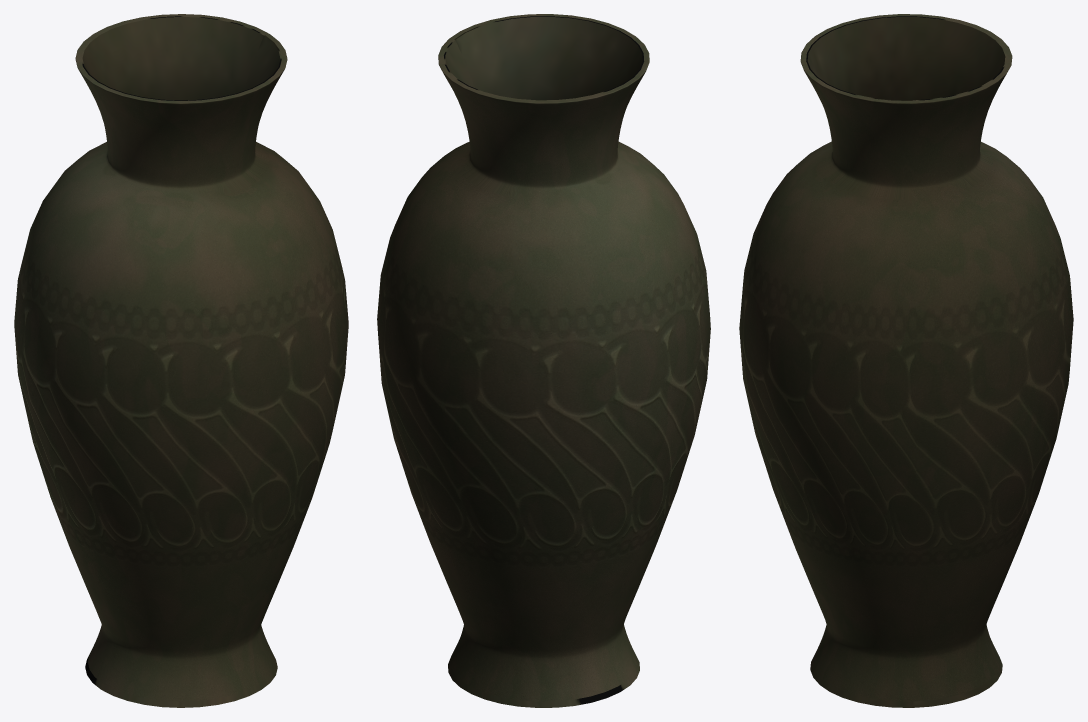
The model's file is decoration_twig_vase_Circle.001.glb.
The picture shows the model from 3 angles, left to right: view 1: azimuth 30°, elevation 25°; view 2: azimuth 150°, elevation 25°; view 3: azimuth 270°, elevation 25°; orthographic projection.
Visible parts, largest first — view 1: decoration_twig_vase_Circle.001; view 2: decoration_twig_vase_Circle.001; view 3: decoration_twig_vase_Circle.001.
Part boxes in pixels (x1,y1,x2,y2): decoration_twig_vase_Circle.001: (14,14,348,707); decoration_twig_vase_Circle.001: (377,14,710,707); decoration_twig_vase_Circle.001: (739,14,1073,707).
Size of the model in its own units: 0.129 by 0.2591 by 0.129.
Materials: 1 (1 with a texture image).
